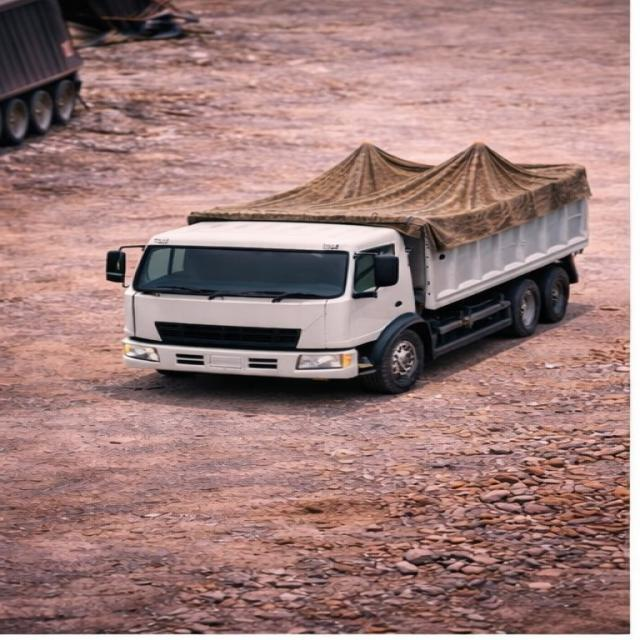trailer: (145, 142, 584, 217)
truck: (107, 122, 623, 387)
